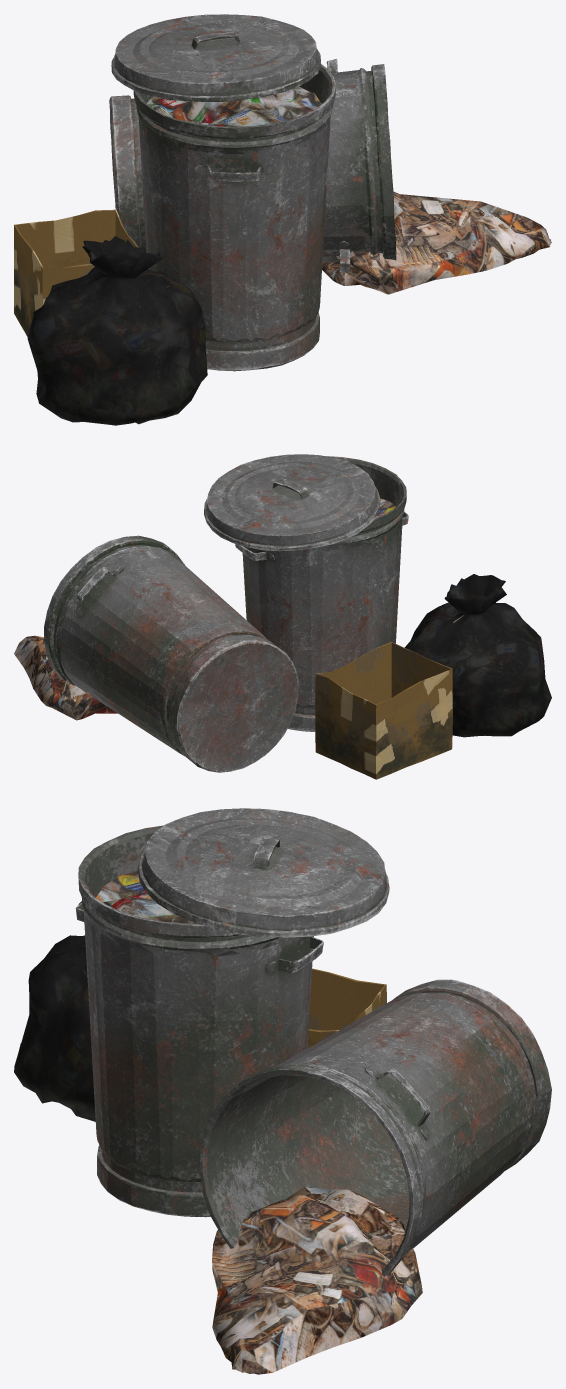
The model's file is trash_can (1).glb.
3 views of the same model, one above another, from view 1: azimuth 30°, elevation 25°; view 2: azimuth 150°, elevation 25°; view 3: azimuth 270°, elevation 25° (orthographic). The views are drawn at different scales.
Visible parts, largest first — view 1: LATA-material (×3), DEMAS-material (×4); view 2: LATA-material (×3), DEMAS-material (×3); view 3: LATA-material (×3), DEMAS-material (×4).
Part boxes in pixels (<box>): LATA-material (×3): <box>109,14,396,371</box>; DEMAS-material (×4): <box>14,86,551,425</box>; LATA-material (×3): <box>43,454,408,772</box>; DEMAS-material (×3): <box>14,574,551,779</box>; LATA-material (×3): <box>75,808,551,1276</box>; DEMAS-material (×4): <box>14,870,422,1374</box>.
Bounding box in the file's own units: 2.19 × 1.03 × 1.49.
2 materials, 2 textured.
